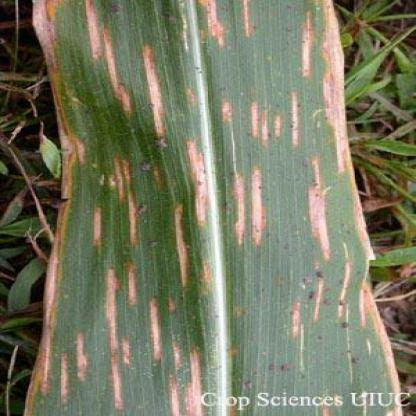corn gray leaf spot: (22, 3, 404, 415)
